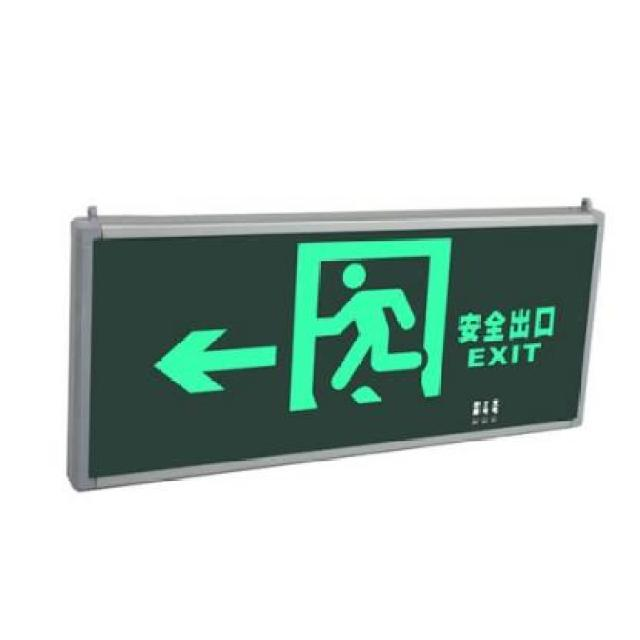exit_sign: (69, 223, 611, 482)
